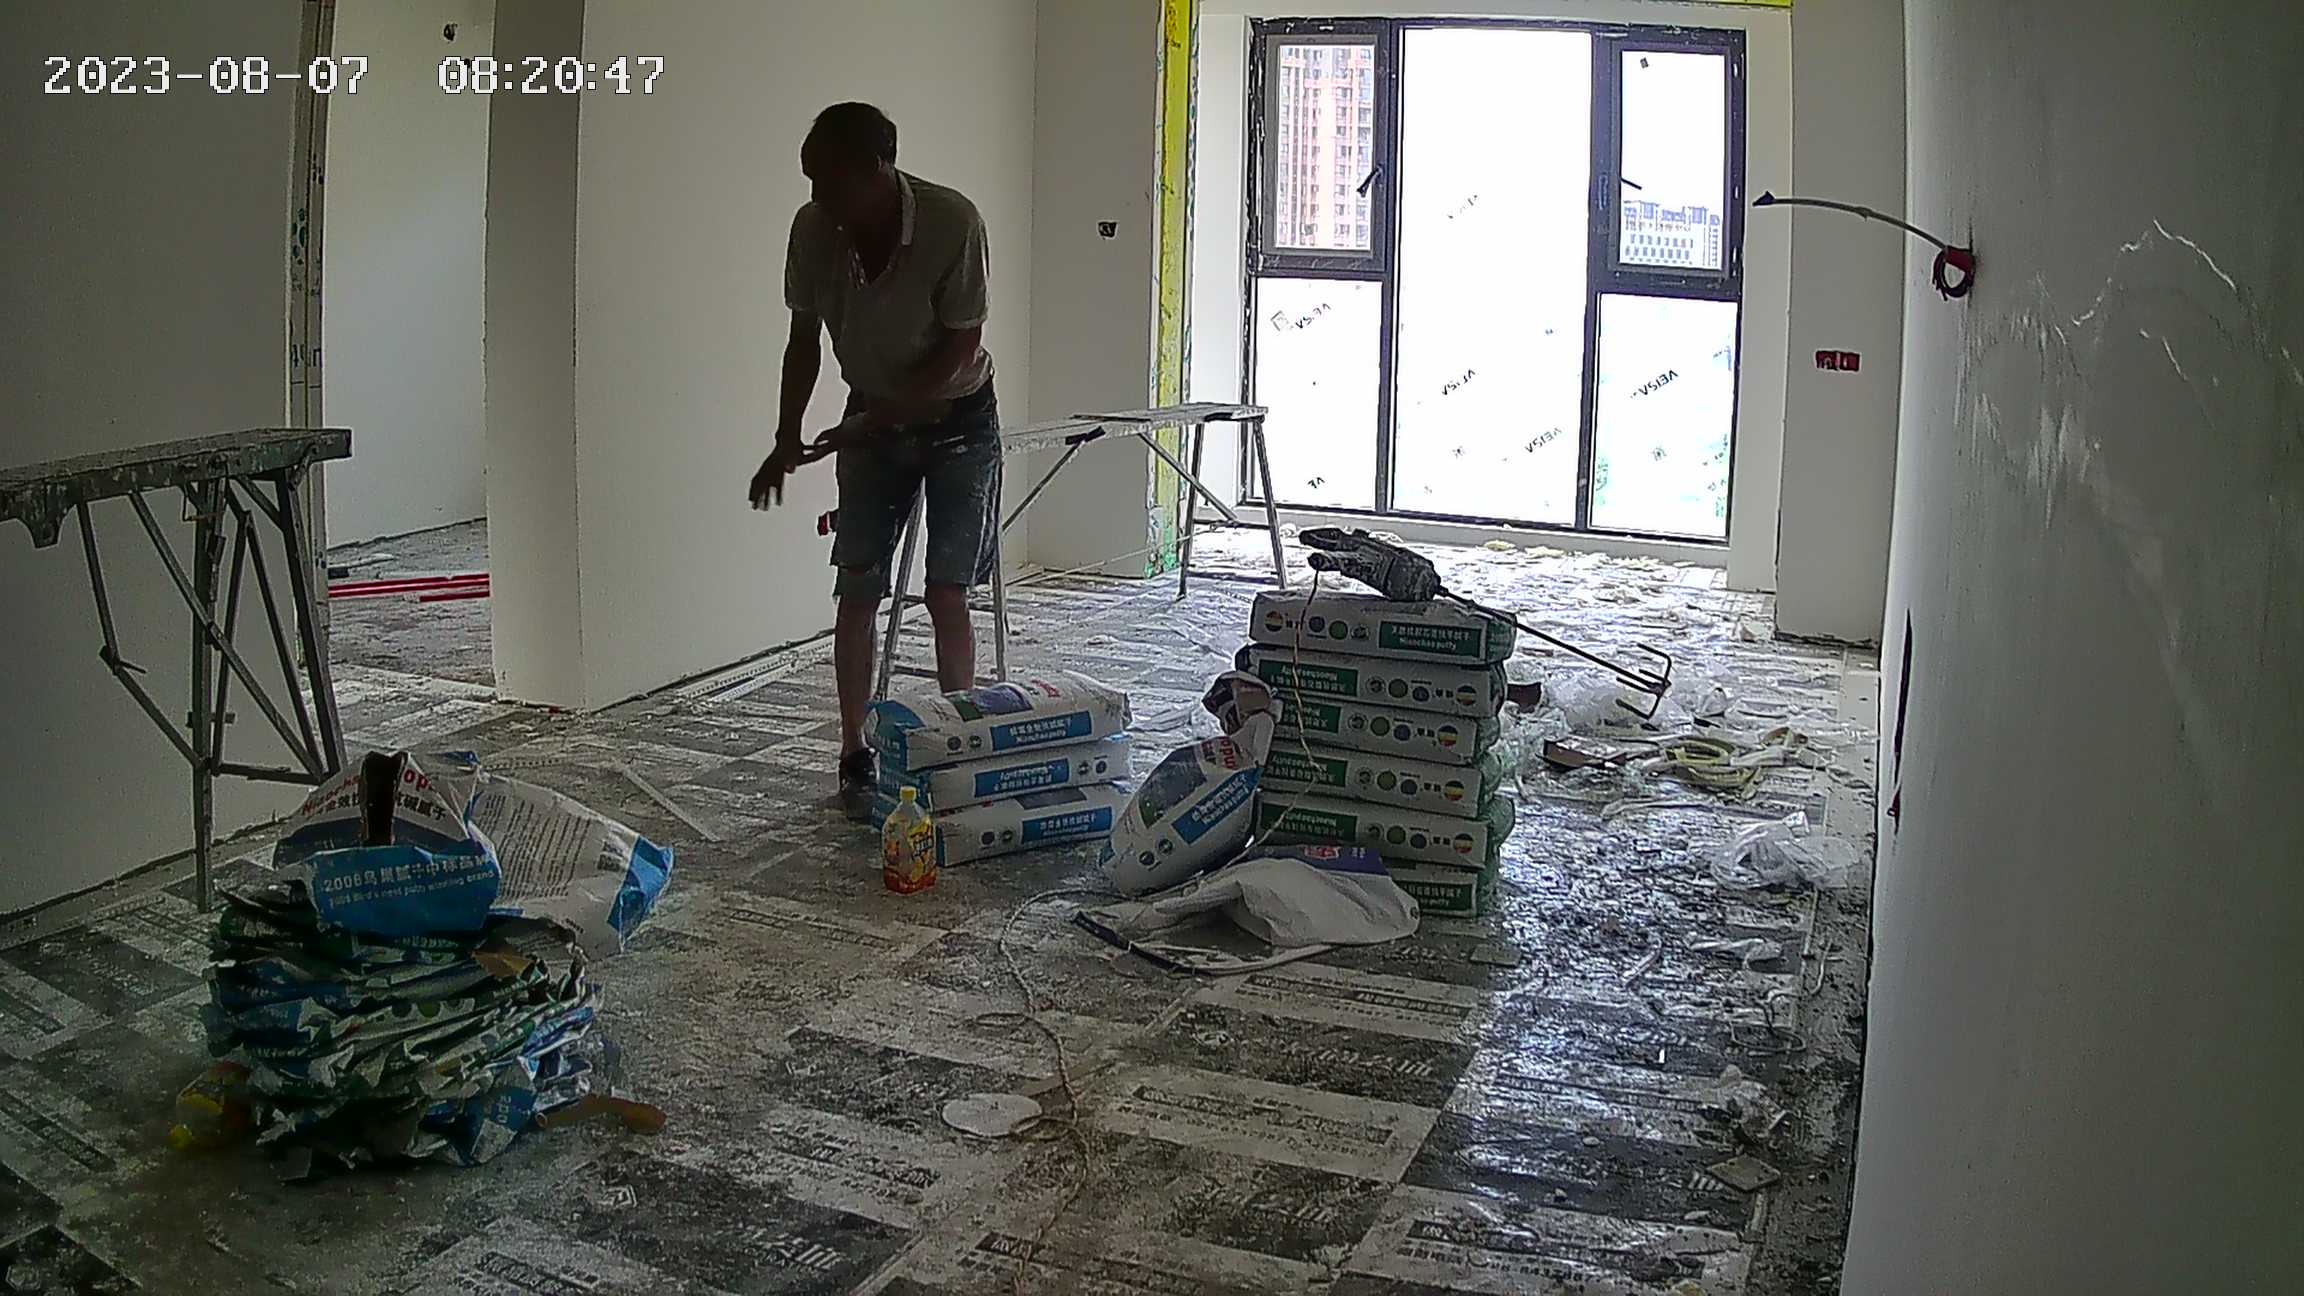people: (737, 91, 1021, 856)
window: (1154, 5, 1743, 537)
